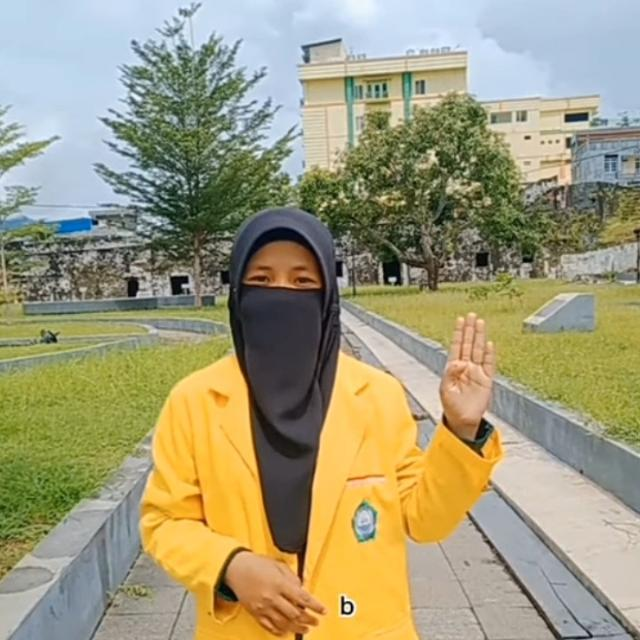B: (439, 308, 497, 436)
